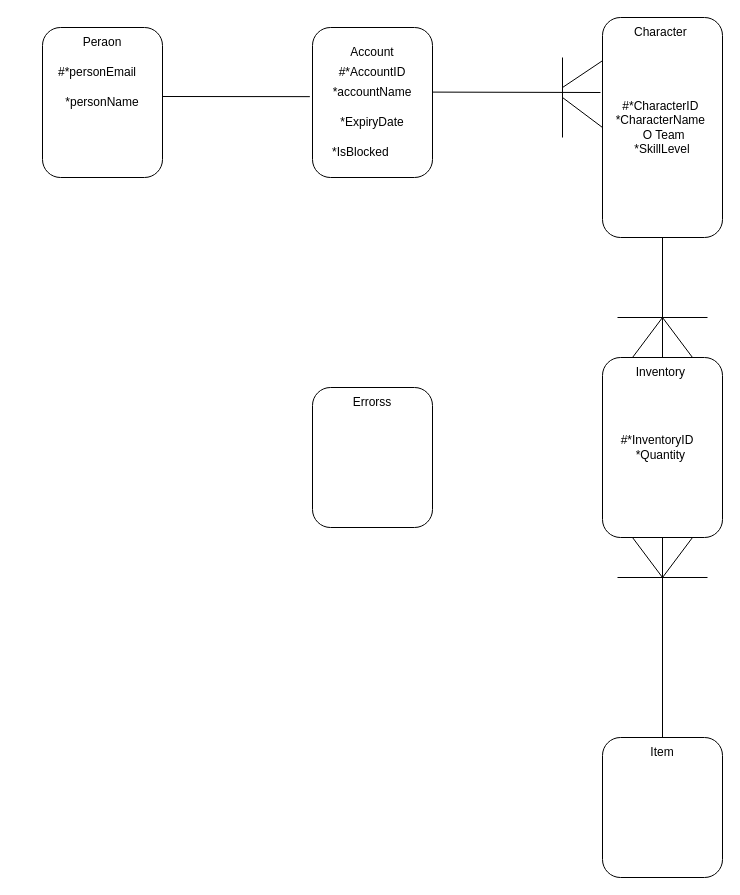
Image size: 740x895. Some labels were removed from this diagram. The shapes that lost their labels are listed below. From the top down, each one's box as (x1, y1, x2, y2) in pixels, then its label:
(312, 386, 432, 528): #*ErrorID *ErrorType *Description
(602, 736, 722, 878): #*ItemID O Name_s
